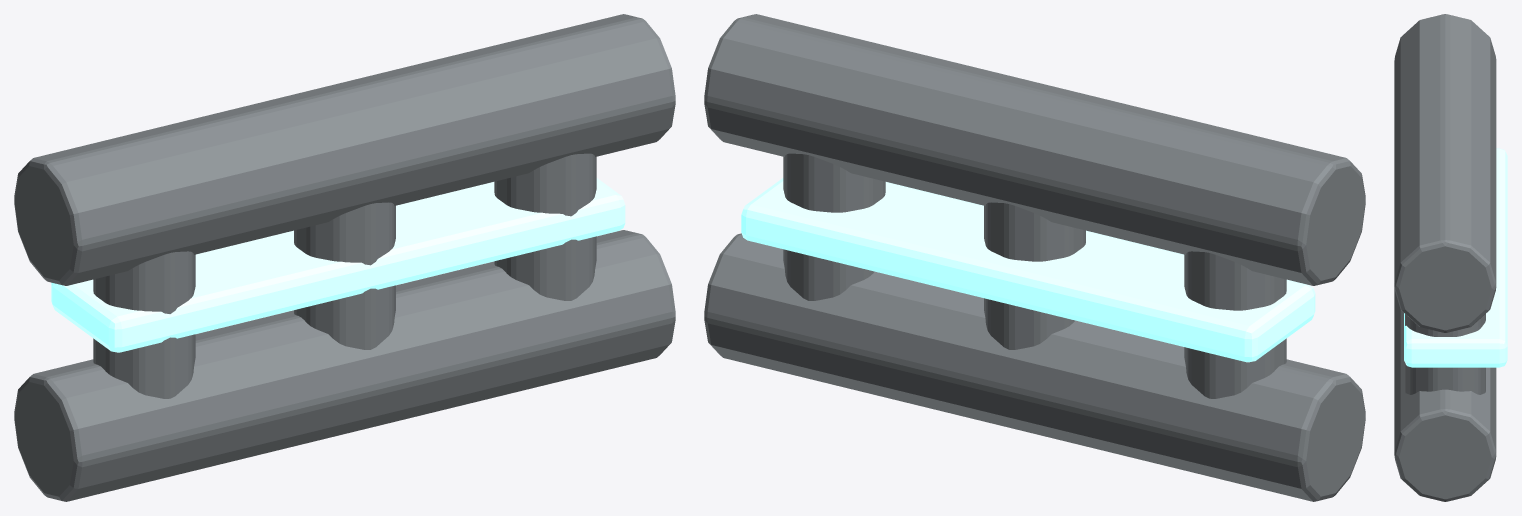
The model's file is manifold.glb.
3 renders of one model, left to right at view 1: azimuth 30°, elevation 25°; view 2: azimuth 150°, elevation 25°; view 3: azimuth 270°, elevation 25°, orthographic. The views are drawn at different scales.
Visible parts, largest first — view 1: header, header_lo, frost, pipe0, pipe2, pipe1; view 2: header, header_lo, frost, pipe0, pipe2, pipe1; view 3: header, header_lo, frost, pipe2.
Part boxes in pixels (box(x1,y1,x2,y2)): header: box(14, 14, 675, 285); header_lo: box(14, 230, 675, 501); frost: box(51, 178, 625, 352); pipe0: box(93, 251, 195, 398); pipe2: box(494, 153, 596, 300); pipe1: box(294, 202, 395, 349); header: box(704, 14, 1365, 285); header_lo: box(704, 233, 1365, 501); frost: box(741, 178, 1315, 362); pipe0: box(1184, 251, 1286, 398); pipe2: box(783, 153, 885, 300); pipe1: box(984, 202, 1085, 349); header: box(1394, 14, 1496, 332); header_lo: box(1394, 287, 1496, 501); frost: box(1404, 148, 1507, 367); pipe2: box(1405, 314, 1485, 394).
Bounding box in the file's own units: 1.05 × 0.557 × 0.2185.
